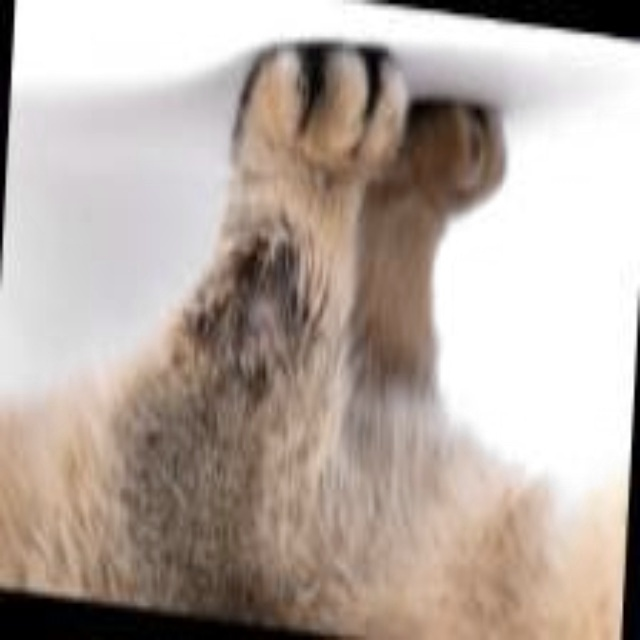ringworm: (226, 253, 283, 386)
